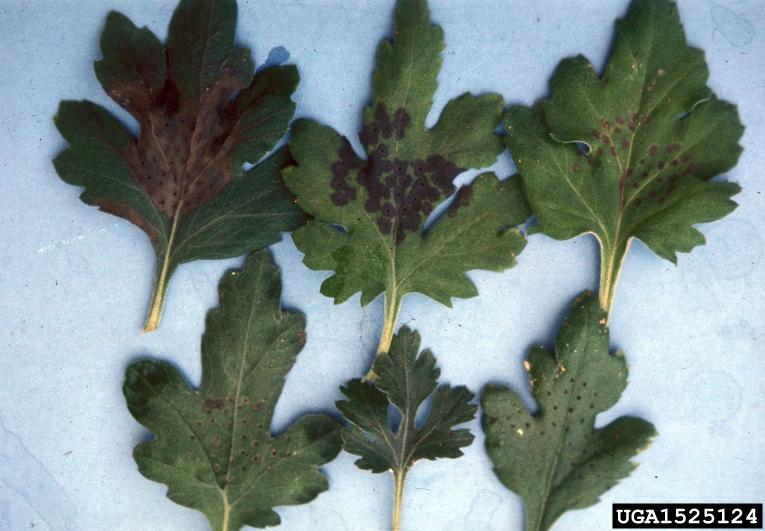Tomato leaf late blight: (494, 4, 743, 305), (113, 232, 360, 519), (478, 268, 680, 517), (339, 330, 480, 509)
